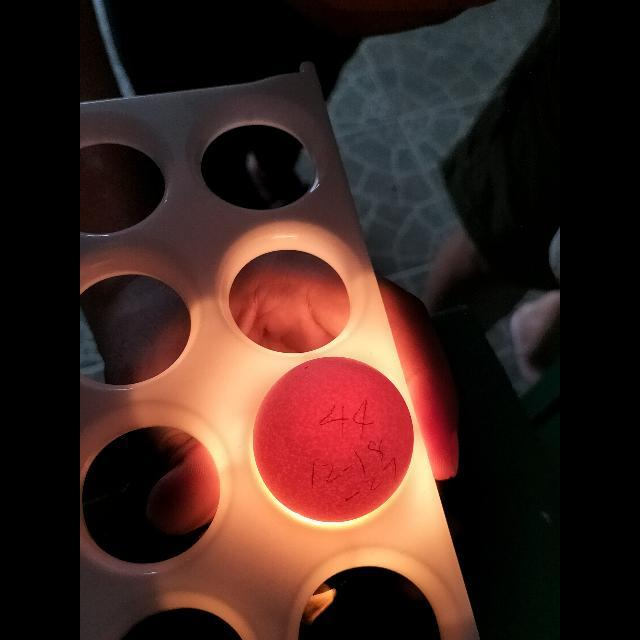Infertile: (252, 359, 424, 519)
